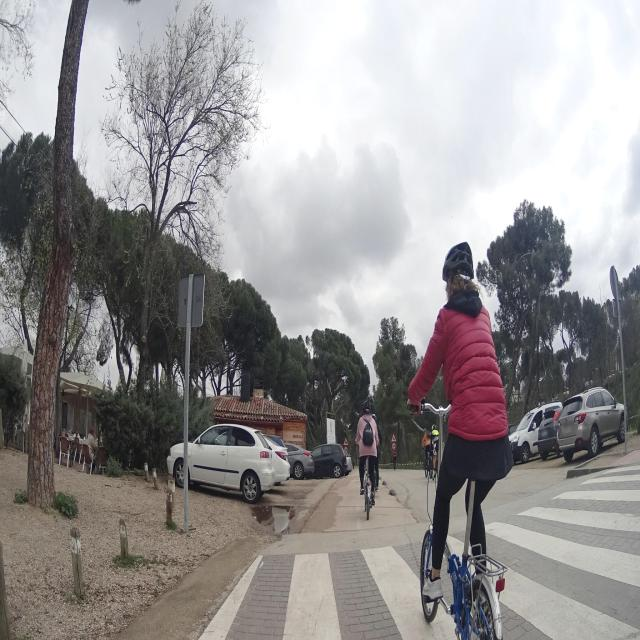bike: (418, 438, 509, 640)
car: (167, 421, 290, 504), (556, 386, 627, 464), (509, 402, 563, 464), (536, 406, 566, 461), (311, 444, 351, 478), (281, 444, 314, 479)
